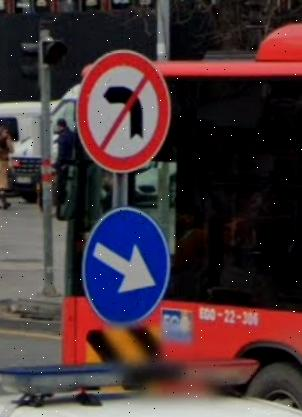leftturnsareforbidden: (84, 55, 173, 170)
